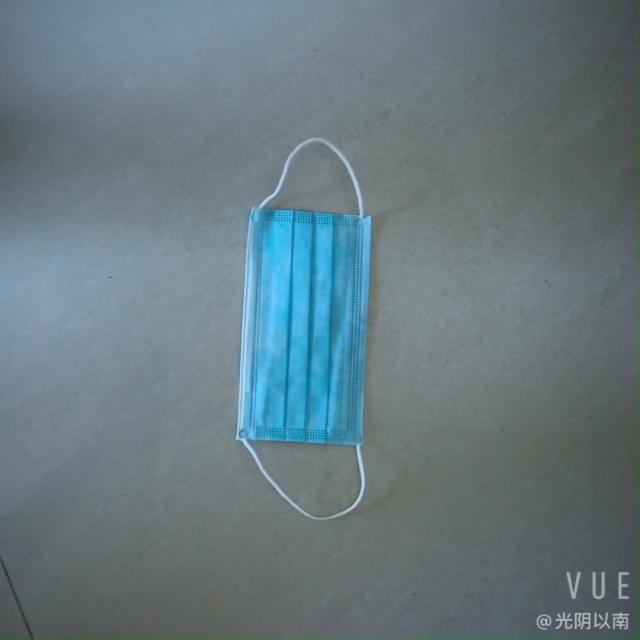non-organic waste: (222, 199, 384, 463)
